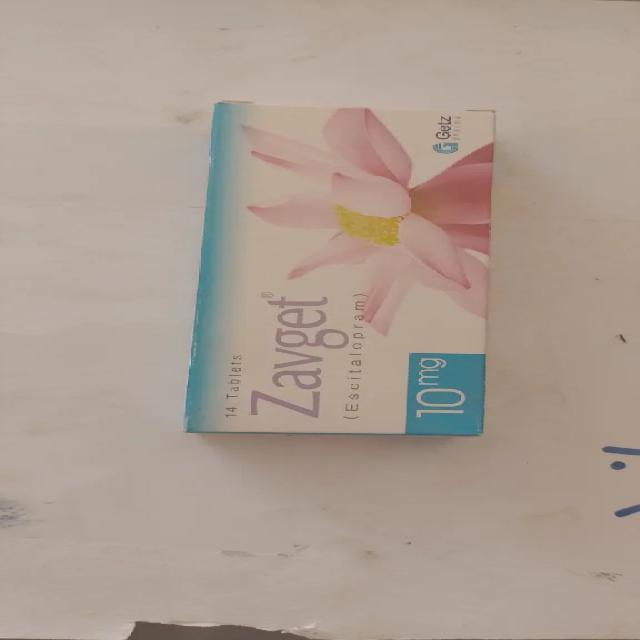drug-name: (248, 294, 346, 418)
